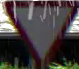Give way: (1, 0, 78, 67)
